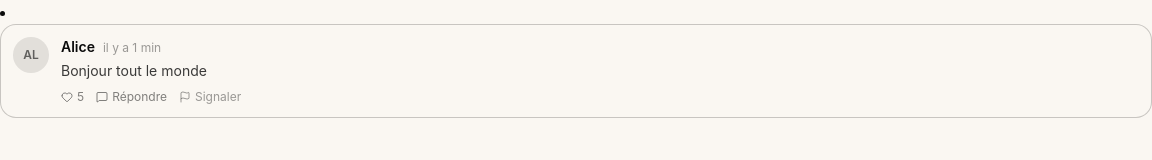
CommentItem › toggle optimistic flip then resolves on 2xx
Click the button named "Aimer ce commentaire". click: x=73, y=97
box: [61,89,84,105]
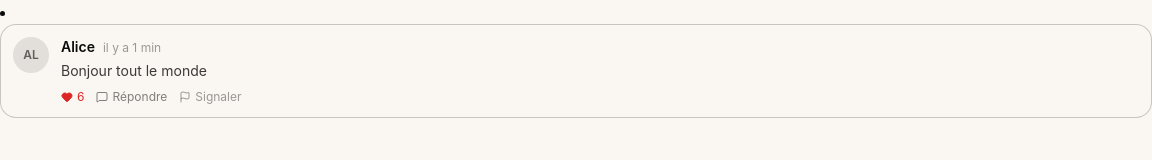
Expected: the text "6" is shown, [77,89,84,105]
